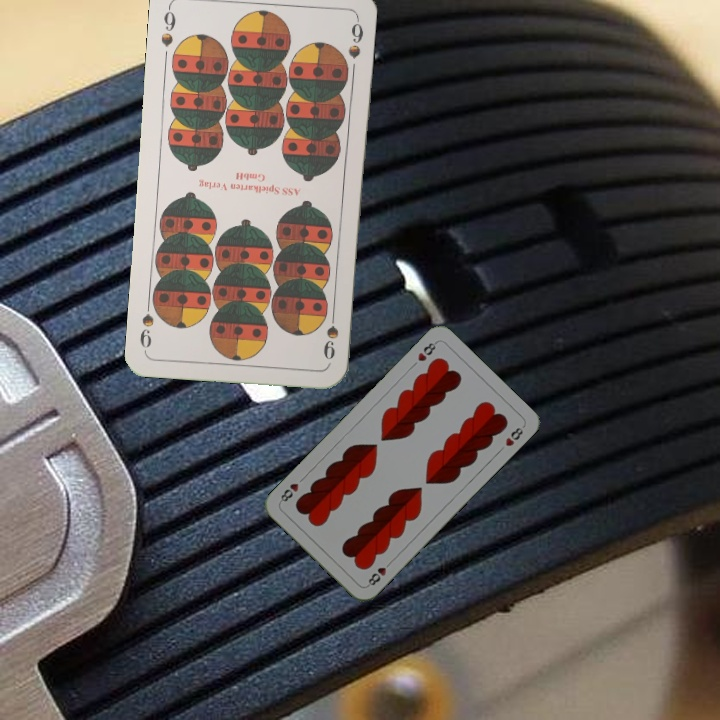H8: (363, 557, 395, 589), (414, 337, 440, 364)
S9: (319, 304, 341, 363), (157, 2, 178, 49)
